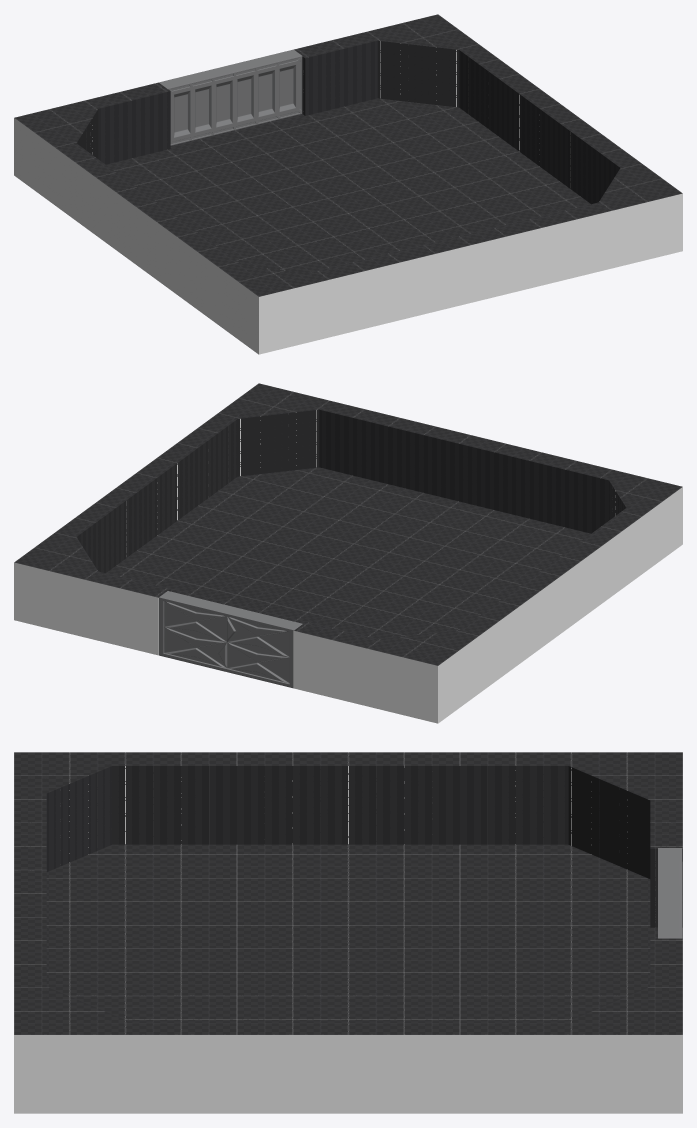
Rendered from DebugRoom.glb.
The picture shows the model from 3 angles, top to bottom: view 1: azimuth 30°, elevation 25°; view 2: azimuth 150°, elevation 25°; view 3: azimuth 270°, elevation 25°; orthographic projection. The views are drawn at different scales.
Visible parts, largest first — view 1: Plane; view 2: Plane; view 3: Plane.
Part boxes in pixels (box(x1,y1,x2,y2)): Plane: box(14, 14, 682, 354); Plane: box(14, 383, 682, 723); Plane: box(14, 752, 682, 1113).
Size of the model in its own units: 222 by 28.99 by 222.
Materials: 2 (1 with a texture image).
